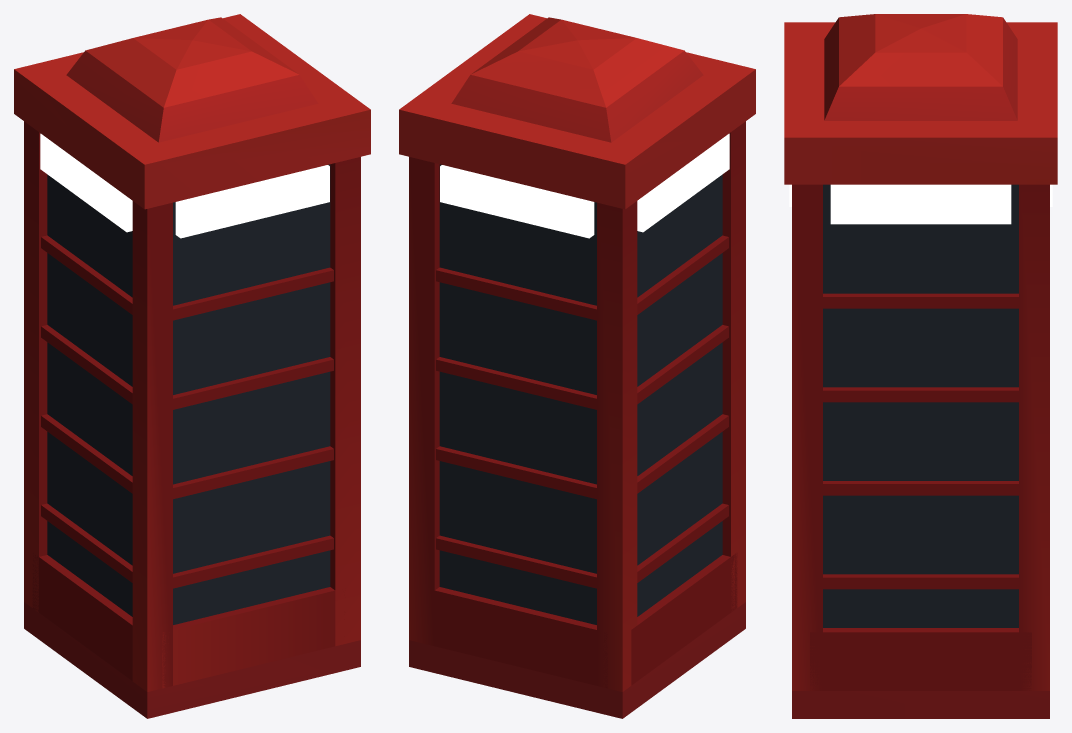
Rendered from ld_phonebox-BDbyknwu.glb.
The picture shows the model from 3 angles, left to right: view 1: azimuth 30°, elevation 25°; view 2: azimuth 150°, elevation 25°; view 3: azimuth 270°, elevation 25°; orthographic projection. The views are drawn at different scales.
Bounding box in the file's own units: 1.06 × 2.72 × 1.06.
